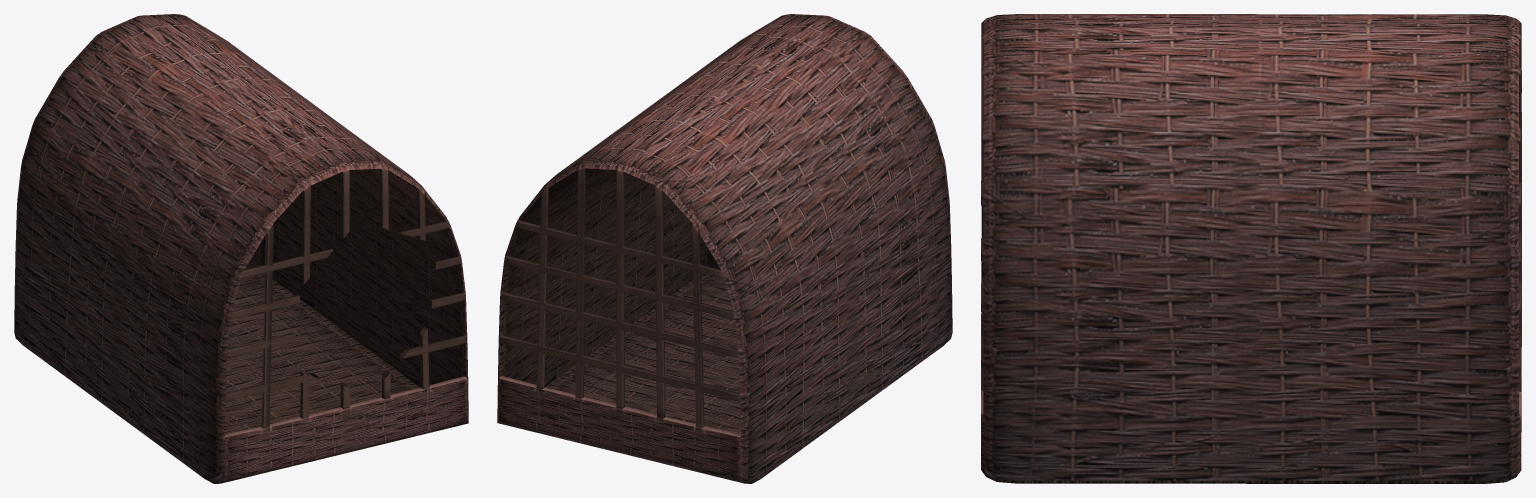
Rendered from woodcage.fbx.
3 renders of one model, left to right at view 1: azimuth 30°, elevation 25°; view 2: azimuth 150°, elevation 25°; view 3: azimuth 270°, elevation 25°, orthographic. The views are drawn at different scales.
Parts seen in each view (by area): view 1: B10_Woodencages; view 2: B10_Woodencages; view 3: B10_Woodencages.
Boxes of the visible parts, x1,y1,x2,y2 form: B10_Woodencages: (14, 14, 468, 483); B10_Woodencages: (497, 14, 952, 483); B10_Woodencages: (981, 14, 1521, 483).
Bounding box in the file's own units: 15.08 × 16.52 × 21.56.
1 material, 1 textured.
